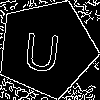U: (21, 23, 63, 72)
